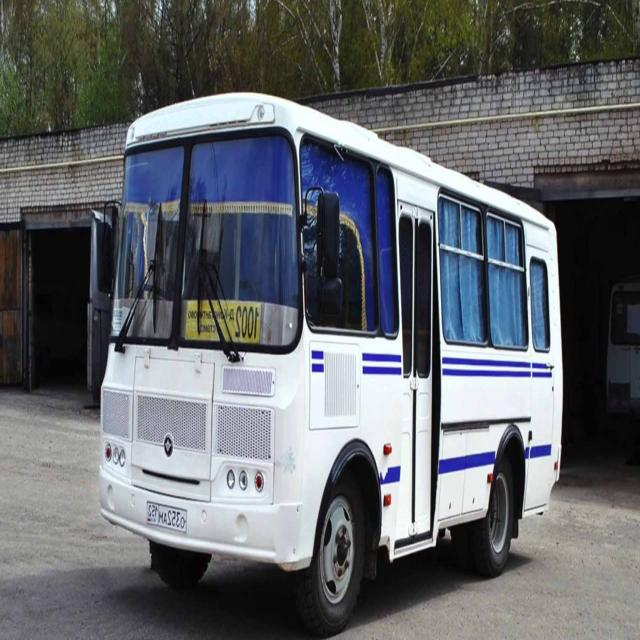bus: (90, 88, 566, 633)
